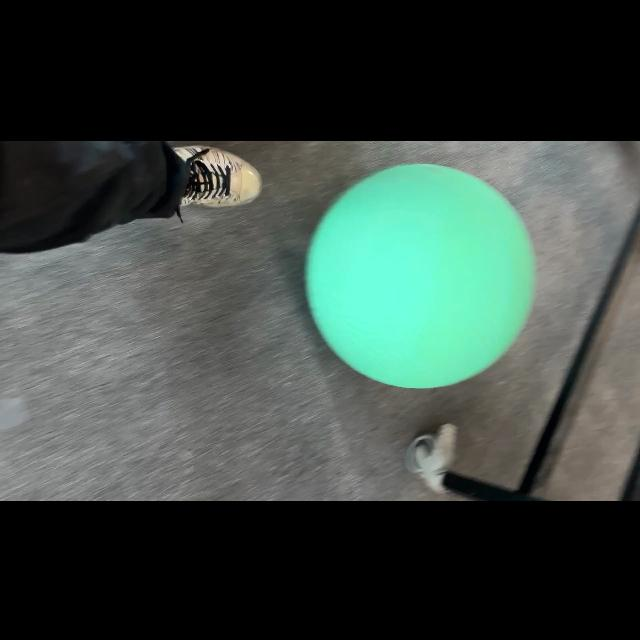ALGAE: (303, 162, 537, 388)
